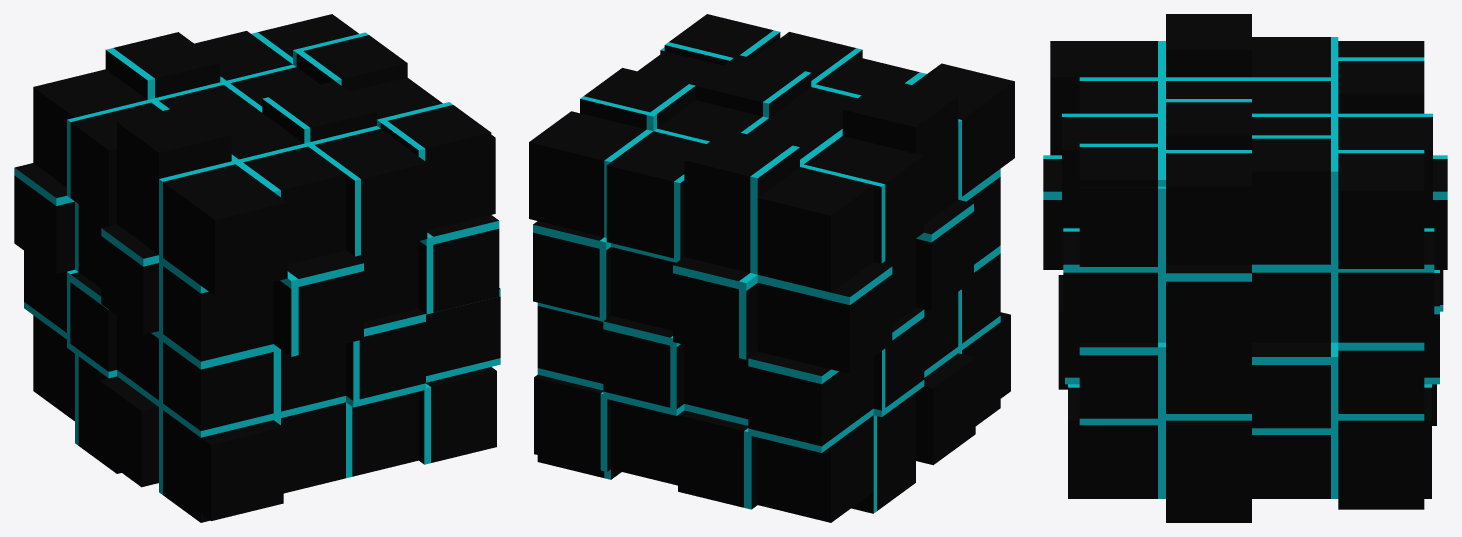
Rendered from player_cube1.fbx.
3 views of the same model, side by side, from view 1: azimuth 30°, elevation 25°; view 2: azimuth 150°, elevation 25°; view 3: azimuth 270°, elevation 25° (orthographic). The views are drawn at different scales.
Visible parts, largest first — view 1: Cube.001; view 2: Cube.001; view 3: Cube.001.
Part boxes in pixels (left/top/right/bottom): Cube.001: left=14, top=14, right=500, bottom=522; Cube.001: left=529, top=14, right=1014, bottom=522; Cube.001: left=1043, top=14, right=1447, bottom=522.
Size of the model in its own units: 97.37 by 97.45 by 98.24.
